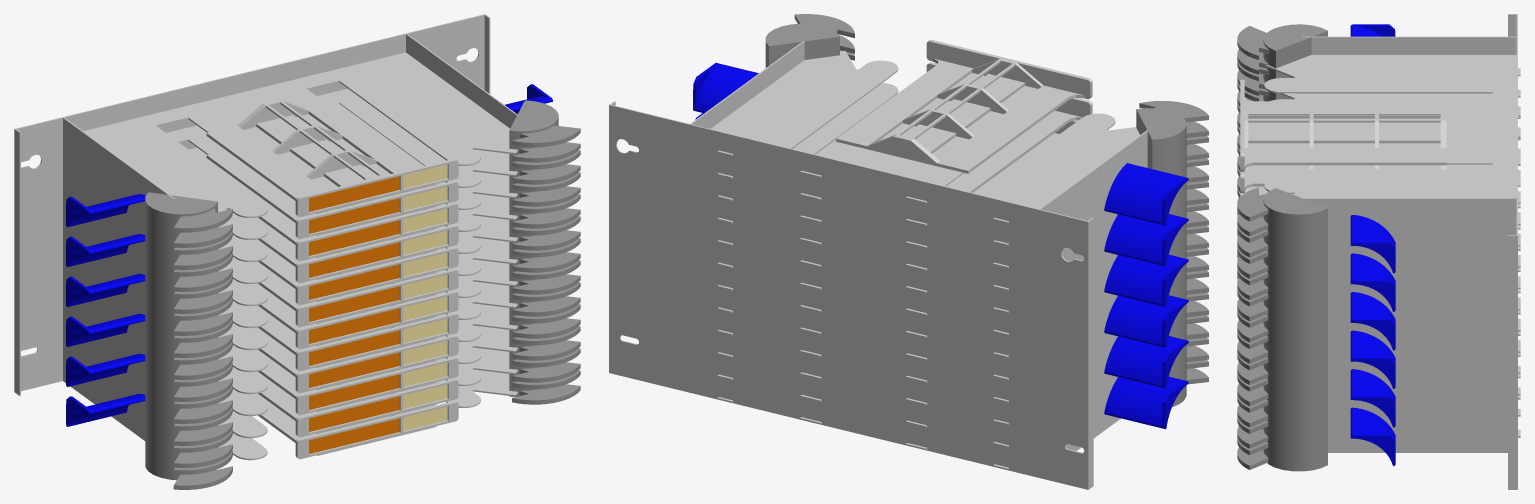
The model's file is Chassis-LISA-PATCH-6U.glb.
The picture shows the model from 3 angles, left to right: view 1: azimuth 30°, elevation 25°; view 2: azimuth 150°, elevation 25°; view 3: azimuth 270°, elevation 25°; orthographic projection. The views are drawn at different scales.
Parts seen in each view (by area): view 1: Geom3D_ (×48), Geom3D_drawer (×12), Geom3D_Patch cassette#1 (×12), Geom3D (×24); view 2: Geom3D_ (×14), Geom3D_drawer (×2), Geom3D_Patch cassette#1 (×2); view 3: Geom3D_ (×39), Geom3D_drawer (×2), Geom3D_Patch cassette#1 (×2).
Boxes of the visible parts, <box> form: Geom3D_ (×48): <box>14,14,580,489</box>; Geom3D_drawer (×12): <box>83,52,517,460</box>; Geom3D_Patch cassette#1 (×12): <box>206,99,458,459</box>; Geom3D (×24): <box>309,164,447,453</box>; Geom3D_ (×14): <box>609,14,1208,489</box>; Geom3D_drawer (×2): <box>711,50,1139,245</box>; Geom3D_Patch cassette#1 (×2): <box>836,39,1092,192</box>; Geom3D_ (×39): <box>1237,14,1517,489</box>; Geom3D_drawer (×2): <box>1248,55,1520,225</box>; Geom3D_Patch cassette#1 (×2): <box>1240,79,1446,192</box>.
Bounding box in the file's own units: 0.5101 × 0.2697 × 0.2688.
